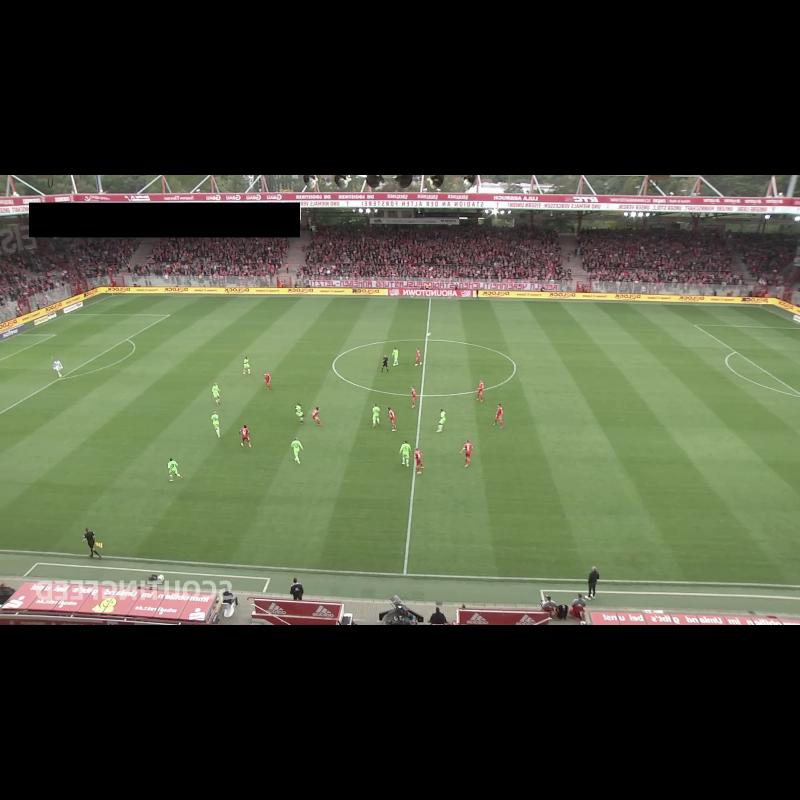cross_recipient_zone: (0, 314, 170, 414), (695, 326, 800, 394)
crossing_player_zone: (594, 302, 800, 329), (0, 447, 71, 510), (69, 296, 267, 315), (768, 464, 800, 497)
pitch: (0, 296, 800, 587)
